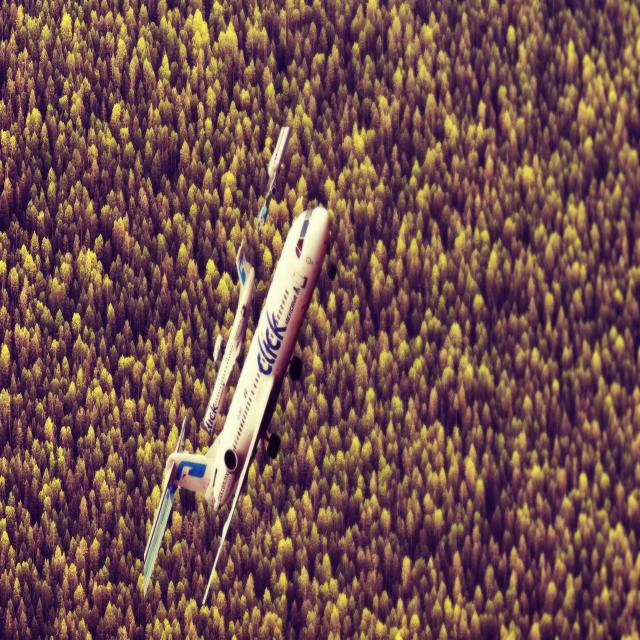airplane: (144, 127, 331, 602)
